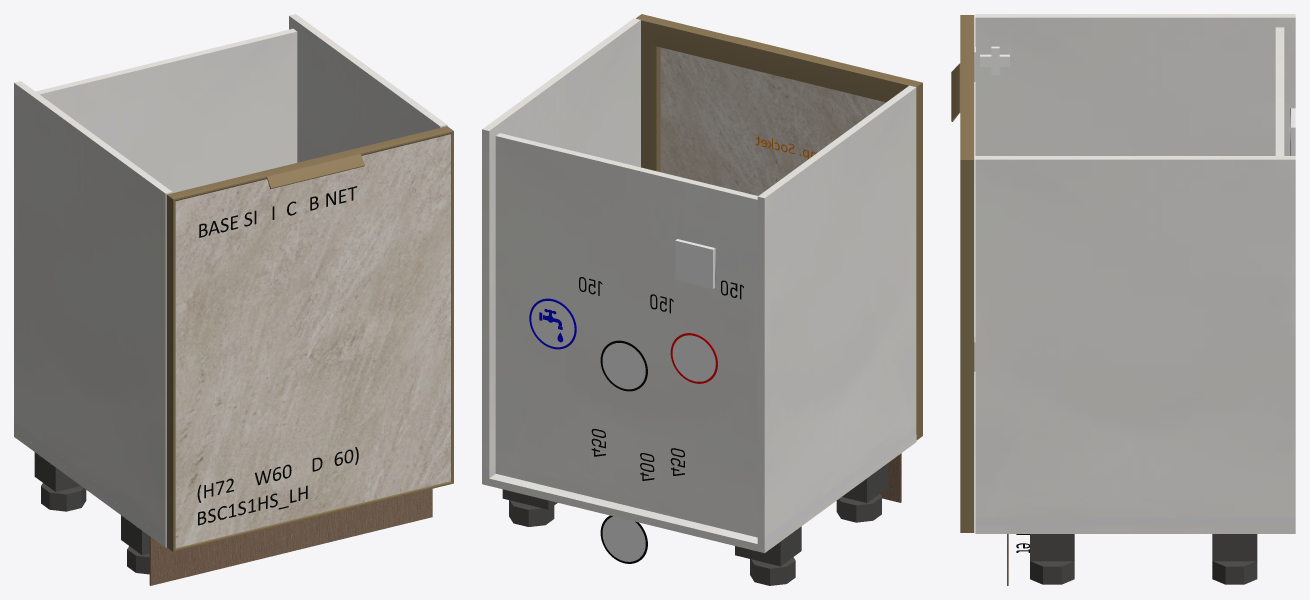
Rendered from BC-SK-TTS-ST-XXX-LHS-XXX-600-720-560-15.glb.
The picture shows the model from 3 angles, left to right: view 1: azimuth 30°, elevation 25°; view 2: azimuth 150°, elevation 25°; view 3: azimuth 270°, elevation 25°; orthographic projection. The views are drawn at different scales.
Parts seen in each view (by area): view 1: Object_node, TP_node_0, TP, TP_node_1, Object_node_68, Extrusion_node_4, ExtrSplGeo, Extrusion_node, 2D text_node, Object_node_18, TP_node, Extrusion_node_3 (+5 smaller); view 2: TP, TP_node_0, Object_node, TP_node_1, TP_node, Extrusion_node, ExtrSplGeo, Extrusion_node_2, Extrusion_node_4, casing, Object_node_64, Object_node_53 (+9 smaller); view 3: TP_node_1, TP_node_0, Extrusion_node_2, Object_node_20, TP_node, Extrusion_node, TP, Plate_node, Plate_node_1, ExtrSplGeo, Foot_node, Foot_node_1.
Boxes of the visible parts, <box> form: Object_node: <box>175,134,450,547</box>; TP_node_0: <box>14,81,172,532</box>; TP: <box>35,28,297,192</box>; TP_node_1: <box>289,14,447,162</box>; Object_node_68: <box>149,489,432,585</box>; Extrusion_node_4: <box>166,195,175,551</box>; ExtrSplGeo: <box>260,149,364,188</box>; Extrusion_node: <box>167,126,453,200</box>; 2D text_node: <box>197,447,358,525</box>; Object_node_18: <box>14,422,166,540</box>; TP_node: <box>14,429,166,547</box>; Extrusion_node_3: <box>173,481,453,551</box>; TP: <box>495,133,757,537</box>; TP_node_0: <box>757,85,916,537</box>; Object_node: <box>660,47,885,195</box>; TP_node_1: <box>482,18,640,470</box>; TP_node: <box>482,435,916,553</box>; Extrusion_node: <box>636,14,922,102</box>; ExtrSplGeo: <box>728,36,829,86</box>; Extrusion_node_2: <box>641,27,660,171</box>; Extrusion_node_4: <box>916,83,922,439</box>; casing: <box>675,239,715,288</box>; Object_node_64: <box>602,343,645,389</box>; Object_node_53: <box>672,335,715,381</box>; TP_node_1: <box>975,156,1295,517</box>; TP_node_0: <box>975,14,1295,155</box>; Extrusion_node_2: <box>960,160,974,532</box>; Object_node_20: <box>975,518,1295,526</box>; TP_node: <box>975,526,1295,533</box>; Extrusion_node: <box>960,15,974,159</box>; TP: <box>1275,27,1284,155</box>; Plate_node: <box>1212,534,1257,561</box>; Plate_node_1: <box>1030,534,1074,561</box>; ExtrSplGeo: <box>951,63,974,121</box>; Foot_node: <box>1212,561,1257,584</box>; Foot_node_1: <box>1030,561,1074,584</box>.
Size of what is drawn, in the model's own units: 0.6 by 0.82 by 0.6.
Materials: 13 (3 with a texture image).
